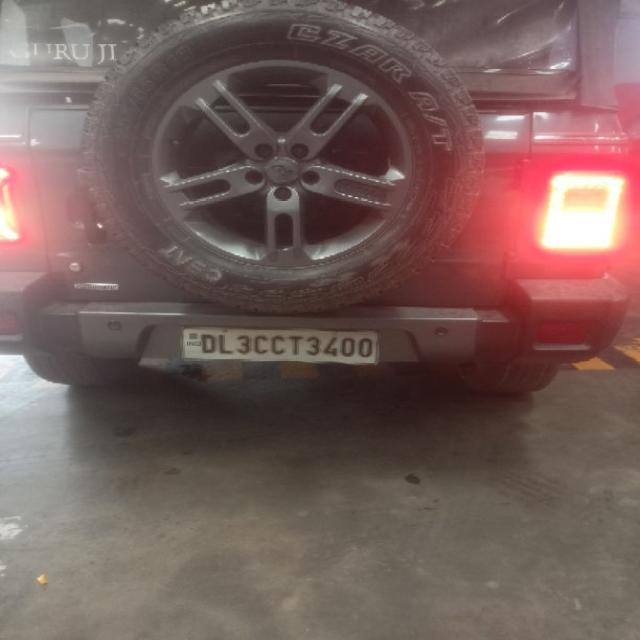license_plate: (178, 326, 380, 364)
